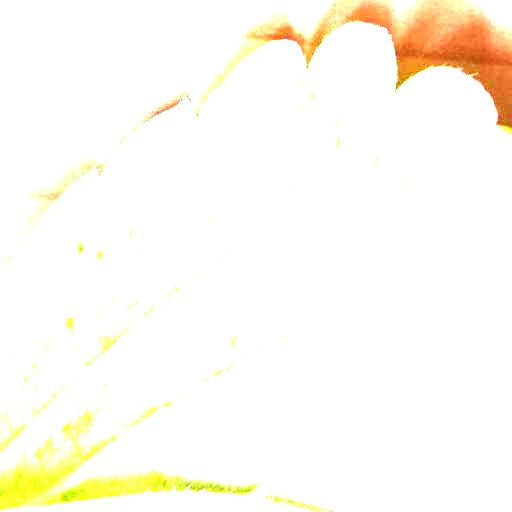Angular Leafspot: (0, 23, 498, 505)
